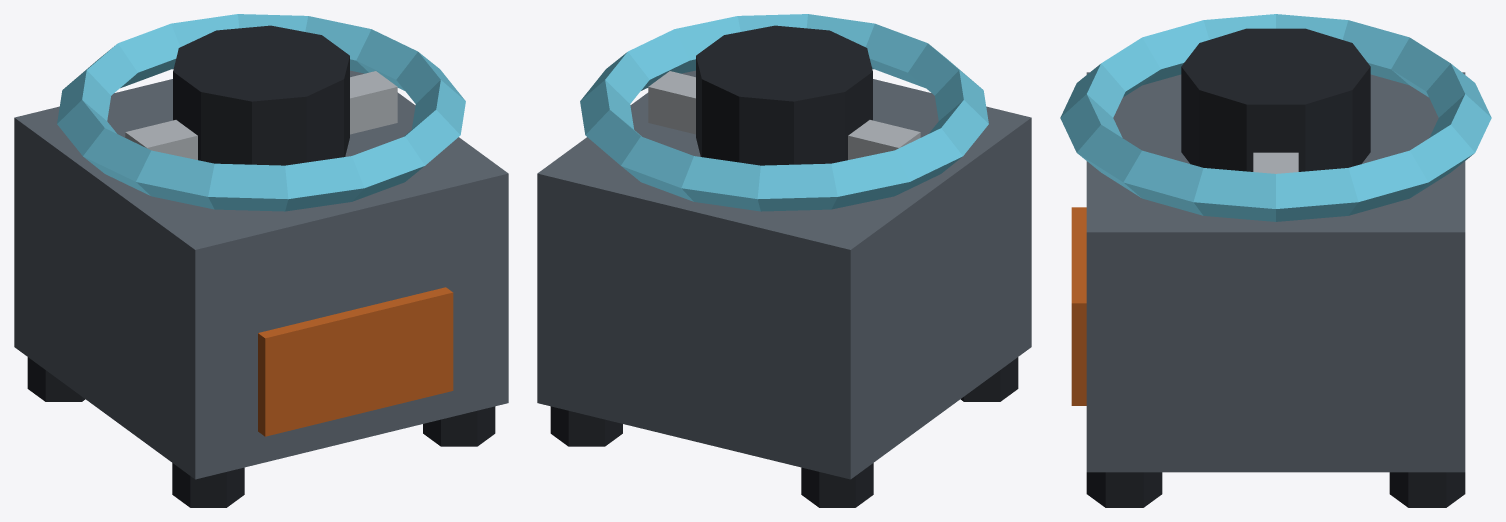
Rendered from gravity-generator.glb.
3 views of the same model, side by side, from view 1: azimuth 30°, elevation 25°; view 2: azimuth 150°, elevation 25°; view 3: azimuth 270°, elevation 25° (orthographic). The views are drawn at different scales.
Visible parts, largest first — view 1: m; view 2: m; view 3: m.
Boxes of the visible parts, left/top/right/bottom form: m: left=14, top=14, right=508, bottom=507; m: left=537, top=14, right=1031, bottom=507; m: left=1060, top=14, right=1491, bottom=507.
Size of the model in its own units: 0.12 by 0.1116 by 0.12.
